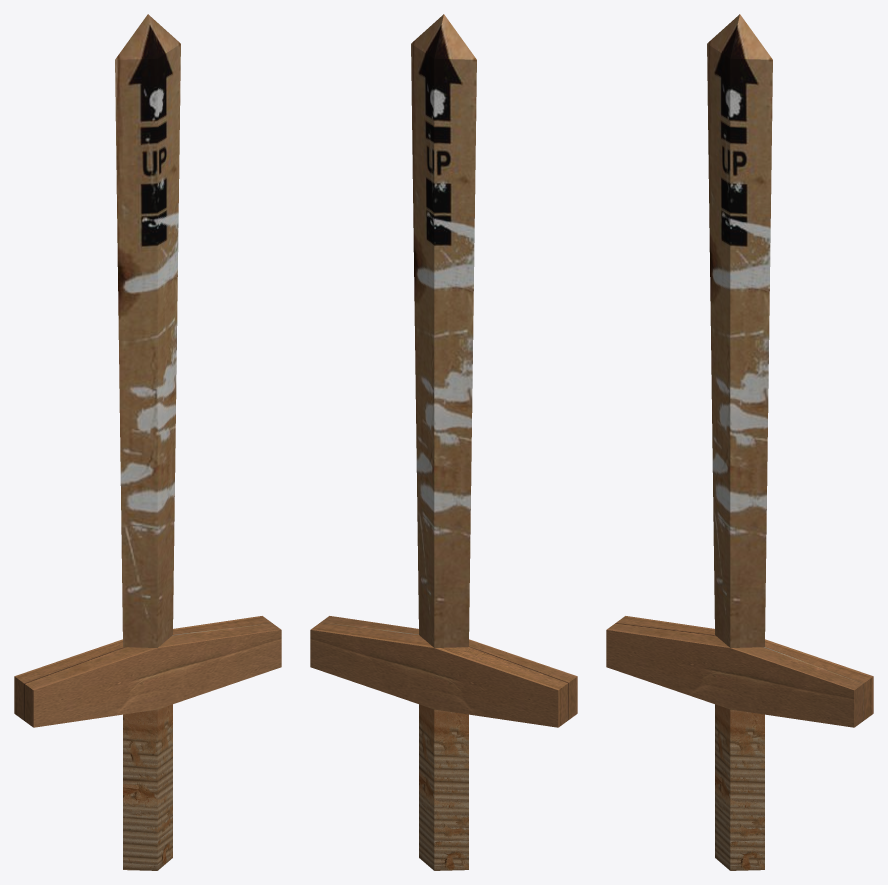
Rendered from cardboardSword.fbx.
The picture shows the model from 3 angles, left to right: view 1: azimuth 30°, elevation 25°; view 2: azimuth 150°, elevation 25°; view 3: azimuth 330°, elevation 25°; orthographic projection.
Visible parts, largest first — view 1: pCube3; view 2: pCube3; view 3: pCube3.
Boxes of the visible parts, bbox=[...] form: pCube3: bbox=[14, 14, 281, 870]; pCube3: bbox=[310, 14, 577, 870]; pCube3: bbox=[606, 14, 873, 870].
Size of the model in its own units: 3.69 by 12.08 by 0.4959.
Materials: 1 (1 with a texture image).
